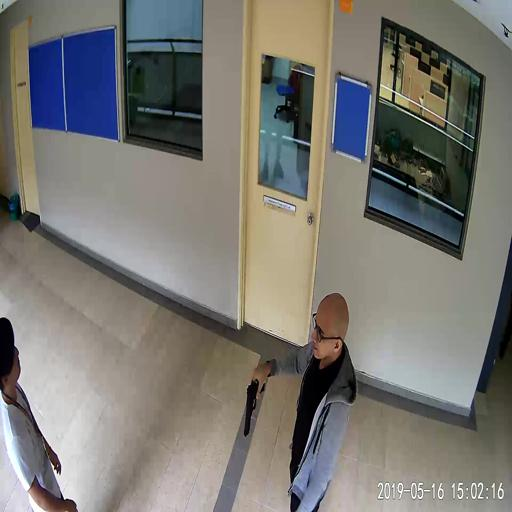pistol: (243, 376, 264, 435)
